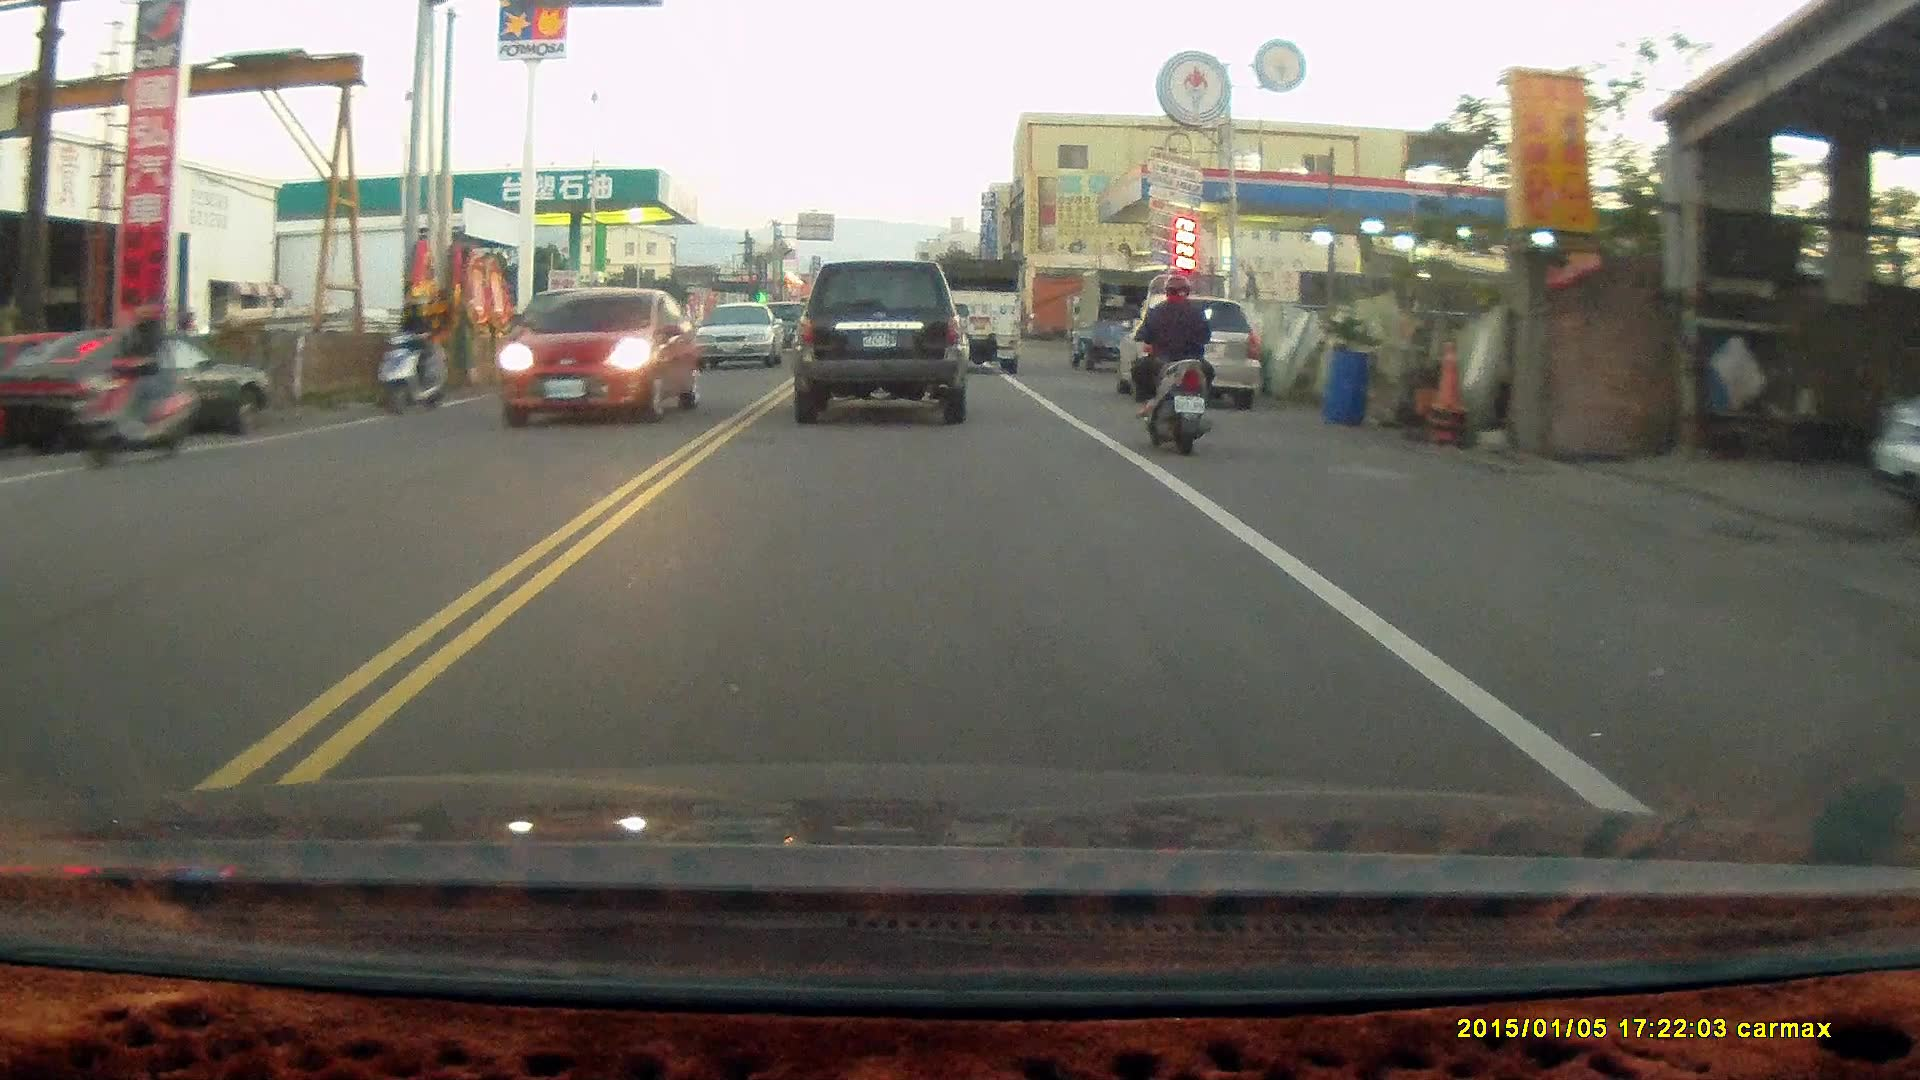rider: (74, 294, 199, 468), (1124, 267, 1220, 450), (366, 292, 447, 417)
vehicle: (5, 325, 276, 452), (791, 258, 969, 424), (498, 288, 698, 426), (1115, 294, 1269, 412), (498, 284, 645, 397), (930, 252, 1020, 372), (695, 301, 786, 368)
